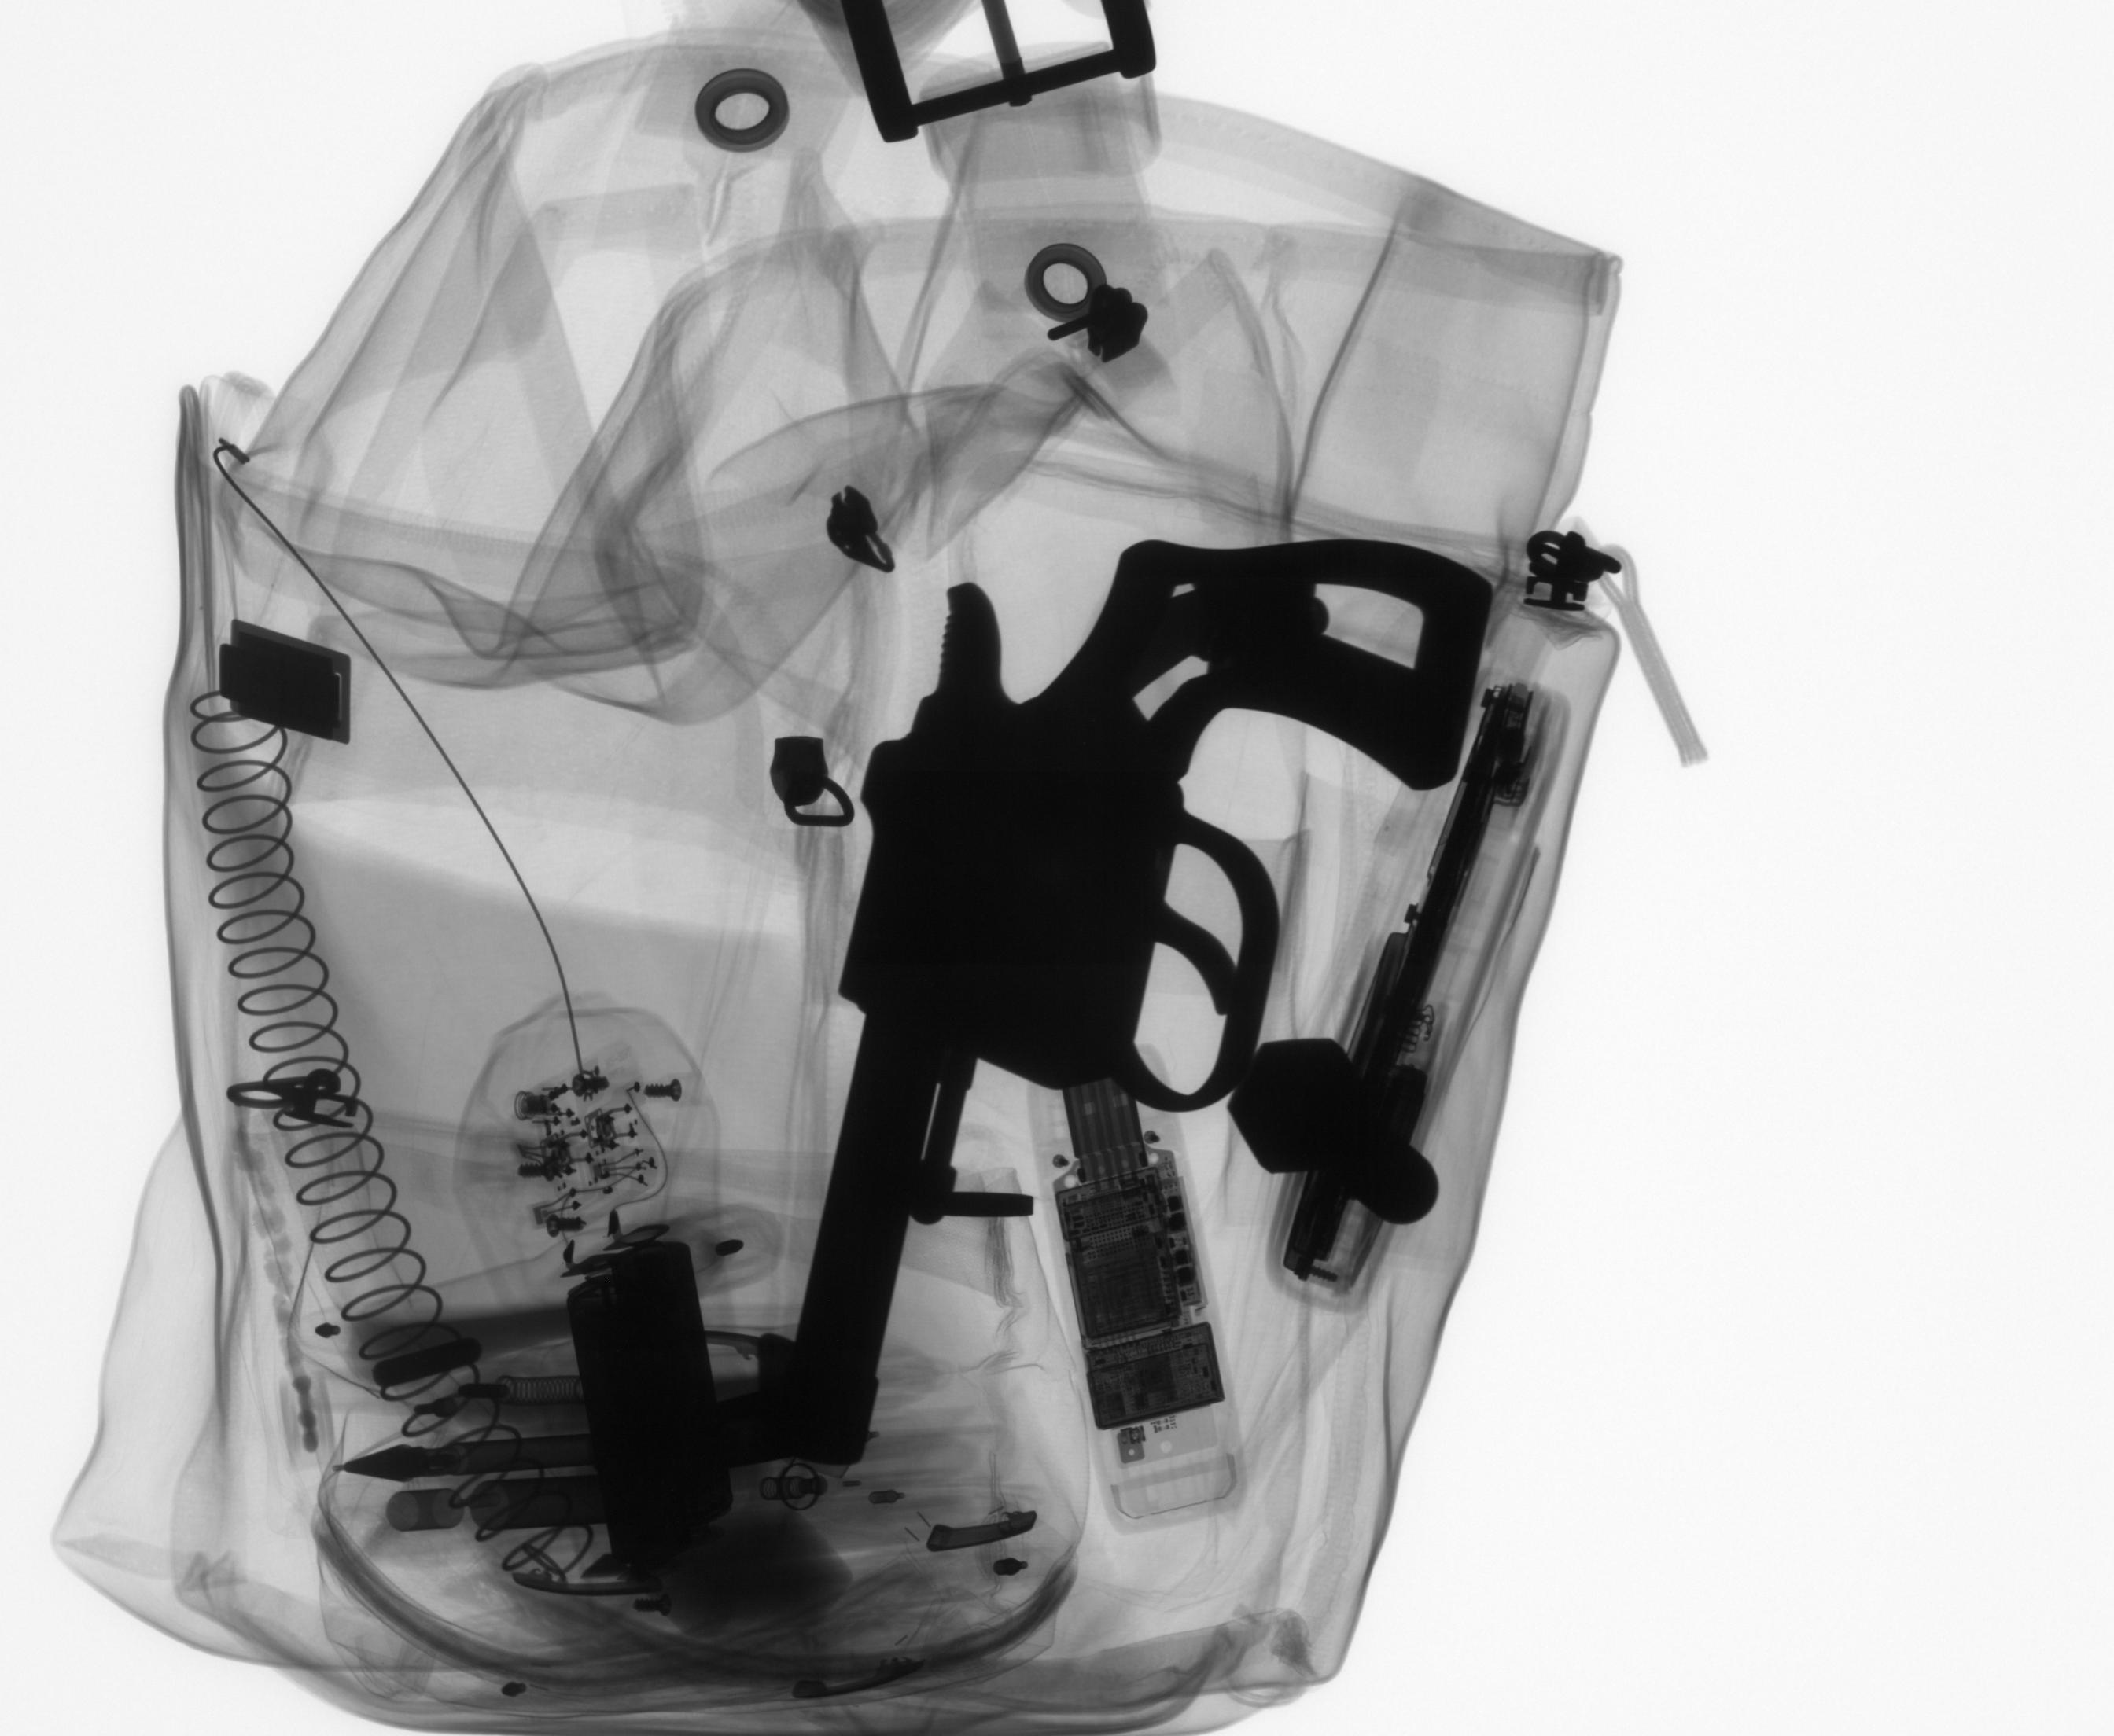Handgun: (760, 529, 1508, 1481)
